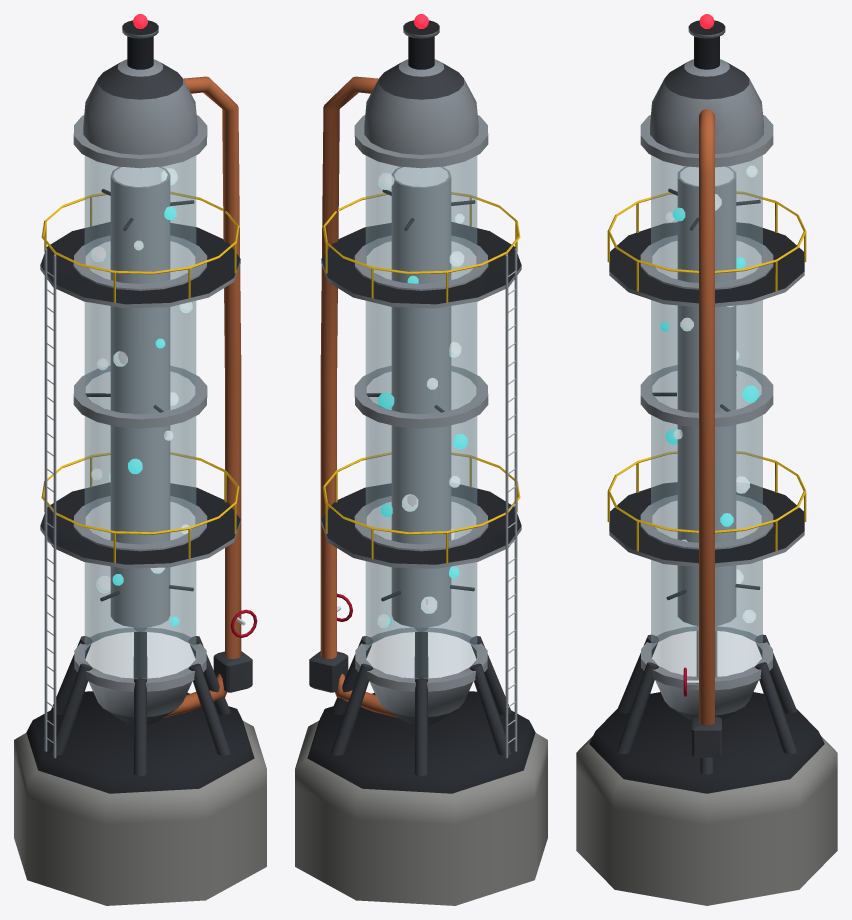
Rendered from lmf_jet_loop_reactor.glb.
The picture shows the model from 3 angles, left to right: view 1: azimuth 30°, elevation 25°; view 2: azimuth 150°, elevation 25°; view 3: azimuth 270°, elevation 25°; orthographic projection.
Visible parts, largest first — view 1: body, reactor_bubbles; view 2: body, reactor_bubbles; view 3: body, reactor_bubbles.
Boxes of the visible parts, bbox=[...] form: body: bbox=[14, 14, 266, 905]; reactor_bubbles: bbox=[91, 168, 192, 626]; body: bbox=[295, 14, 547, 905]; reactor_bubbles: bbox=[377, 173, 467, 627]; body: bbox=[576, 14, 837, 905]; reactor_bubbles: bbox=[660, 165, 759, 623].
Size of the model in its own units: 8.2 by 28.96 by 8.2.
